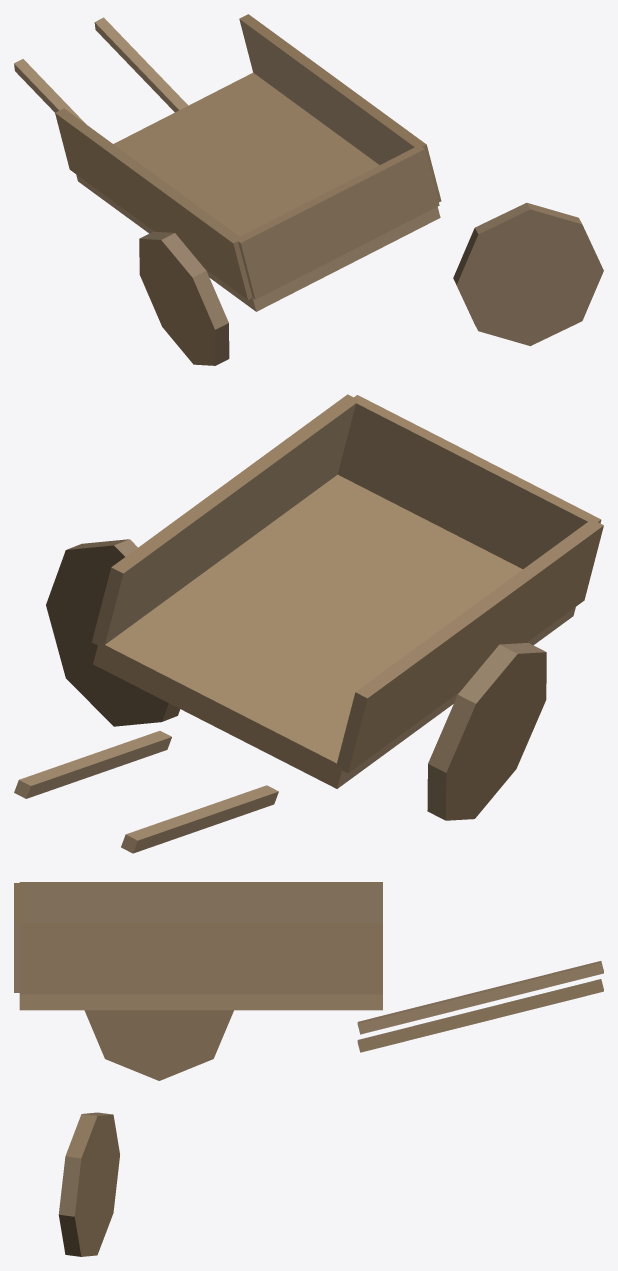
Rendered from cart_broken.glb.
3 renders of one model, top to bottom at view 1: azimuth 30°, elevation 25°; view 2: azimuth 150°, elevation 25°; view 3: azimuth 270°, elevation 25°, orthographic. The views are drawn at different scales.
Parts seen in each view (by area): view 1: cart_broken2; view 2: cart_broken2; view 3: cart_broken2.
Part boxes in pixels (x1,y1,x2,y2): cart_broken2: (14, 14, 603, 365); cart_broken2: (14, 394, 603, 853); cart_broken2: (14, 882, 603, 1256).
Size of the model in its own units: 3.35 by 2.06 by 4.22.
